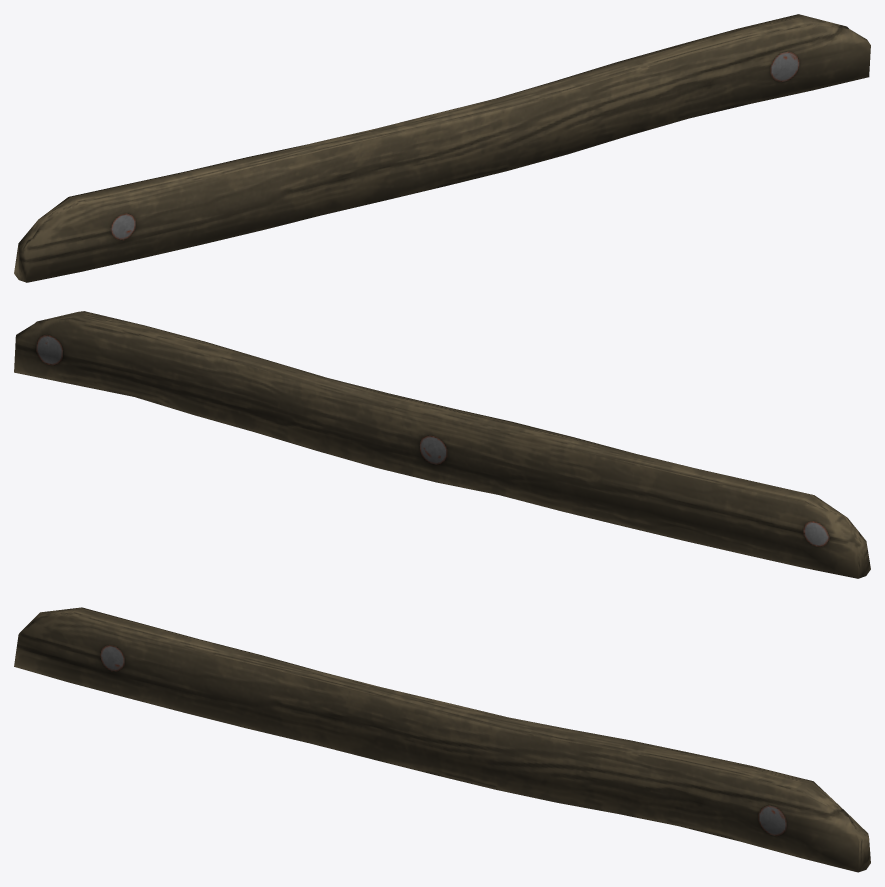
Rendered from BUI_RES_plankA.FBX.
The picture shows the model from 3 angles, top to bottom: view 1: azimuth 30°, elevation 25°; view 2: azimuth 150°, elevation 25°; view 3: azimuth 330°, elevation 25°; orthographic projection.
Visible parts, largest first — view 1: BUI_RES_plankA_LOD0; view 2: BUI_RES_plankA_LOD0; view 3: BUI_RES_plankA_LOD0.
Part boxes in pixels (x1,y1,x2,y2): BUI_RES_plankA_LOD0: (14, 14, 870, 282); BUI_RES_plankA_LOD0: (14, 311, 870, 578); BUI_RES_plankA_LOD0: (14, 607, 870, 872).
Size of what is drawn, in the model's own units: 400 by 36.48 by 12.68.
1 material, 1 textured.
